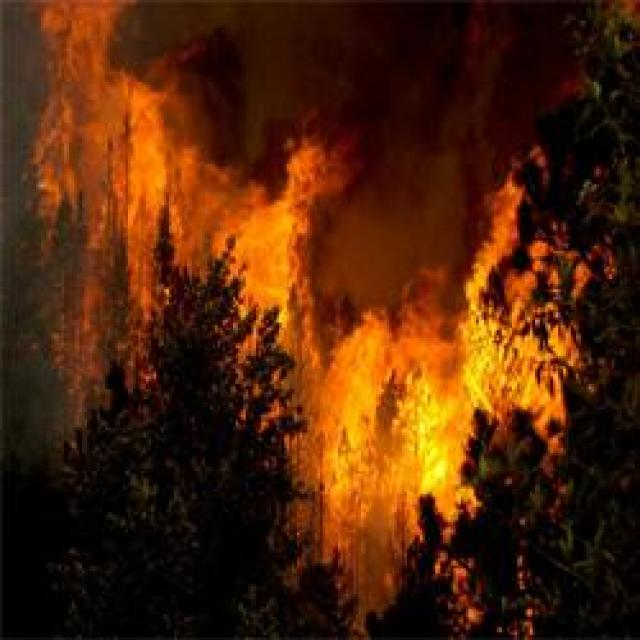fire: (60, 9, 581, 599)
